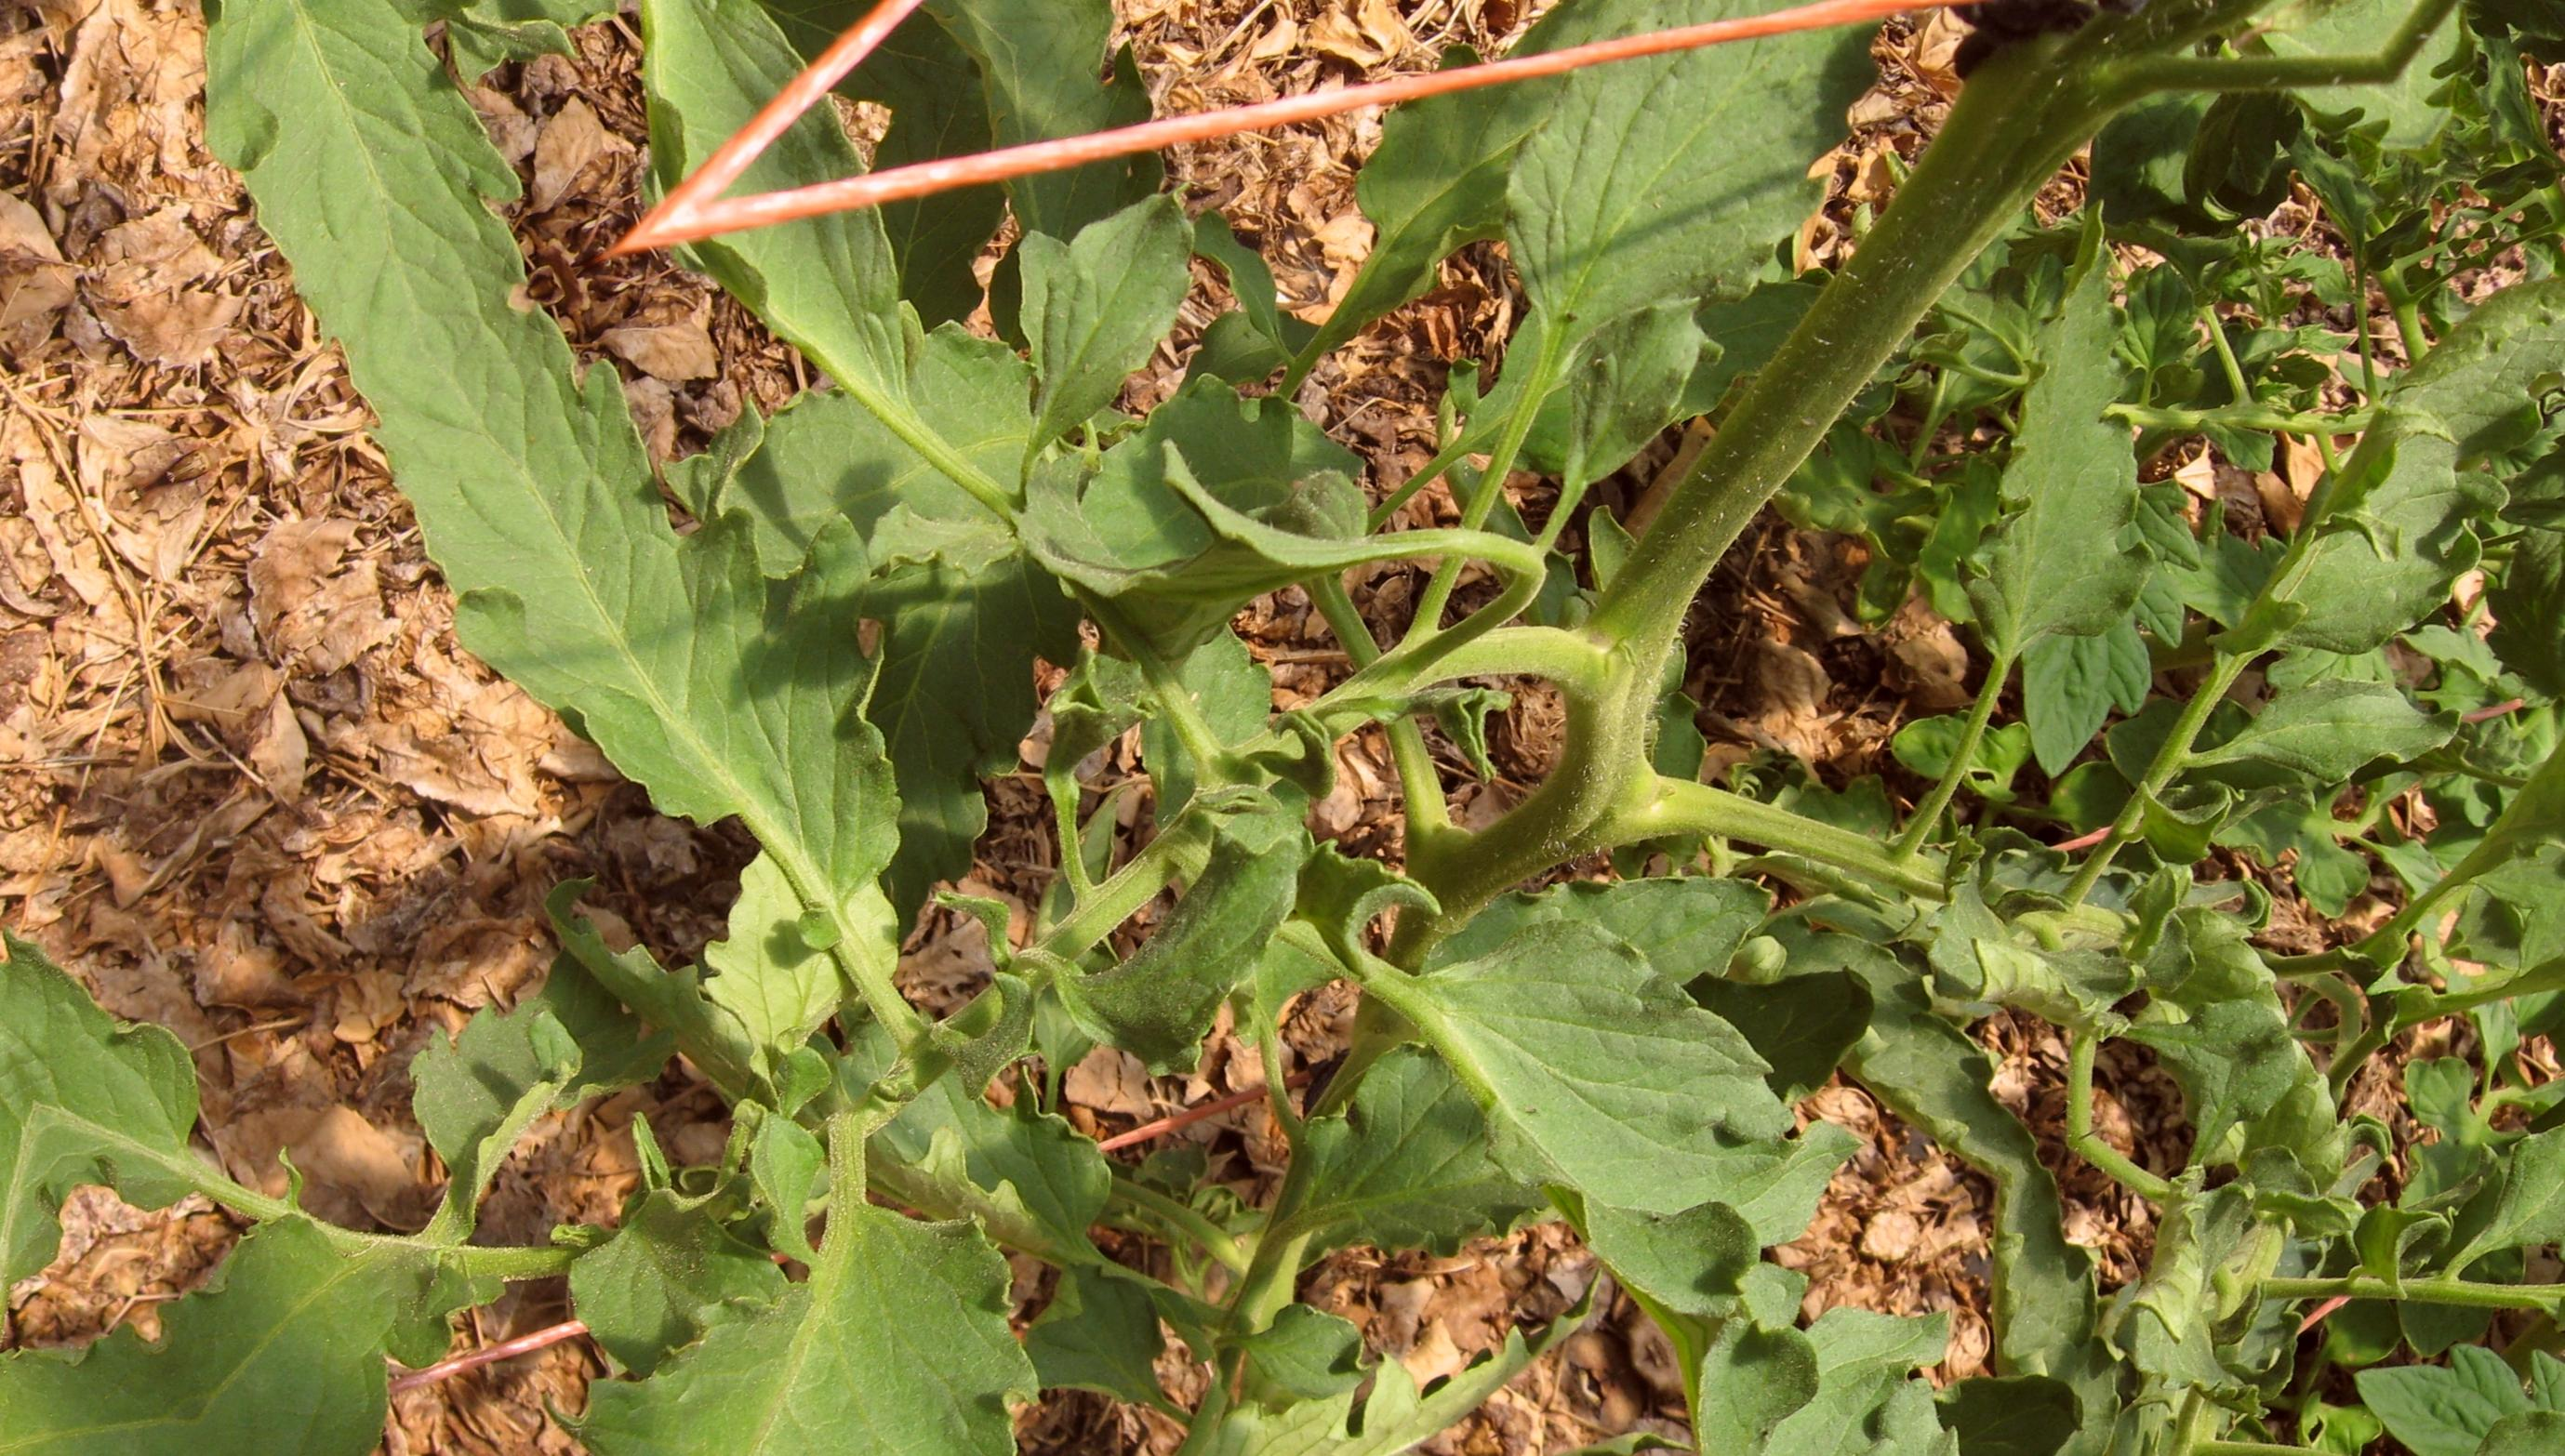Tomato leaf: (328, 224, 1004, 1018), (1261, 0, 2068, 558), (678, 39, 1279, 658), (291, 1090, 1156, 1456), (1323, 822, 1776, 1317), (1866, 211, 2292, 655), (345, 910, 722, 1241), (0, 840, 285, 1271)
